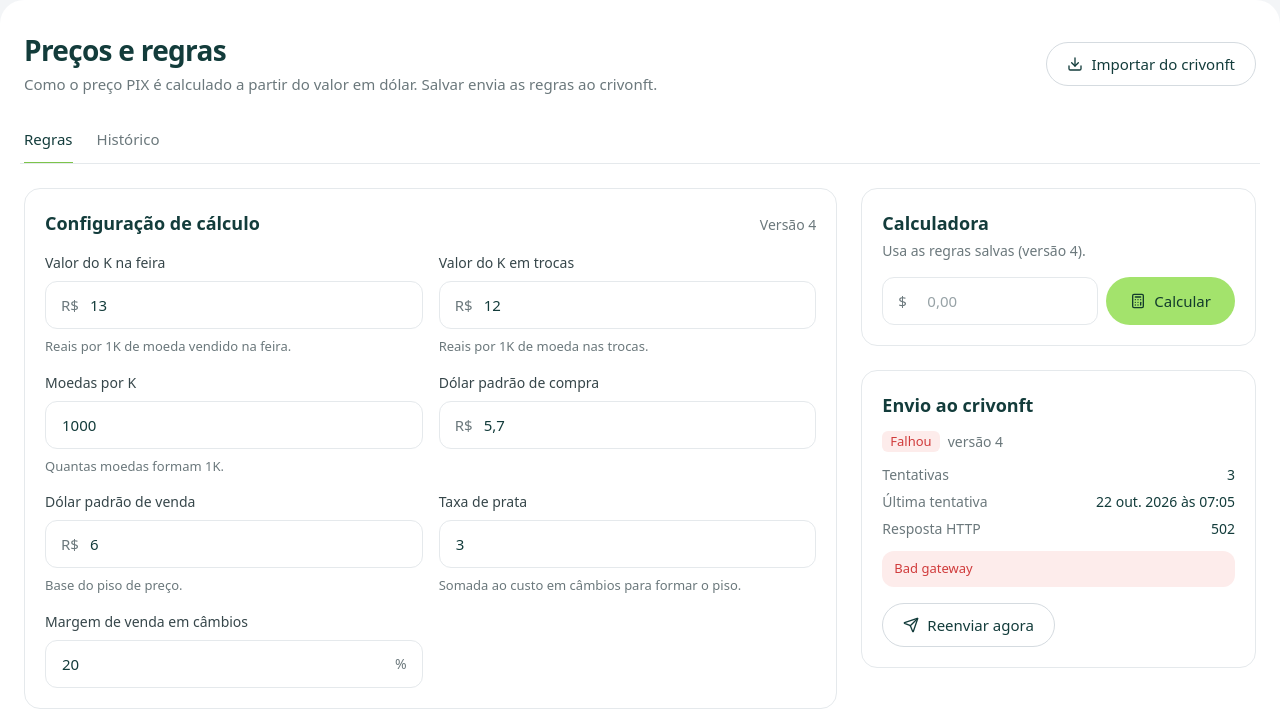
Test: PricingView › só mostra a barra de salvar depois de editar
Expected: the text "Salvar regras" is not shown
Replace the text in the field labelled "Valor do K na feira" with "14" at coordinates (234, 305), box [45, 281, 423, 329]
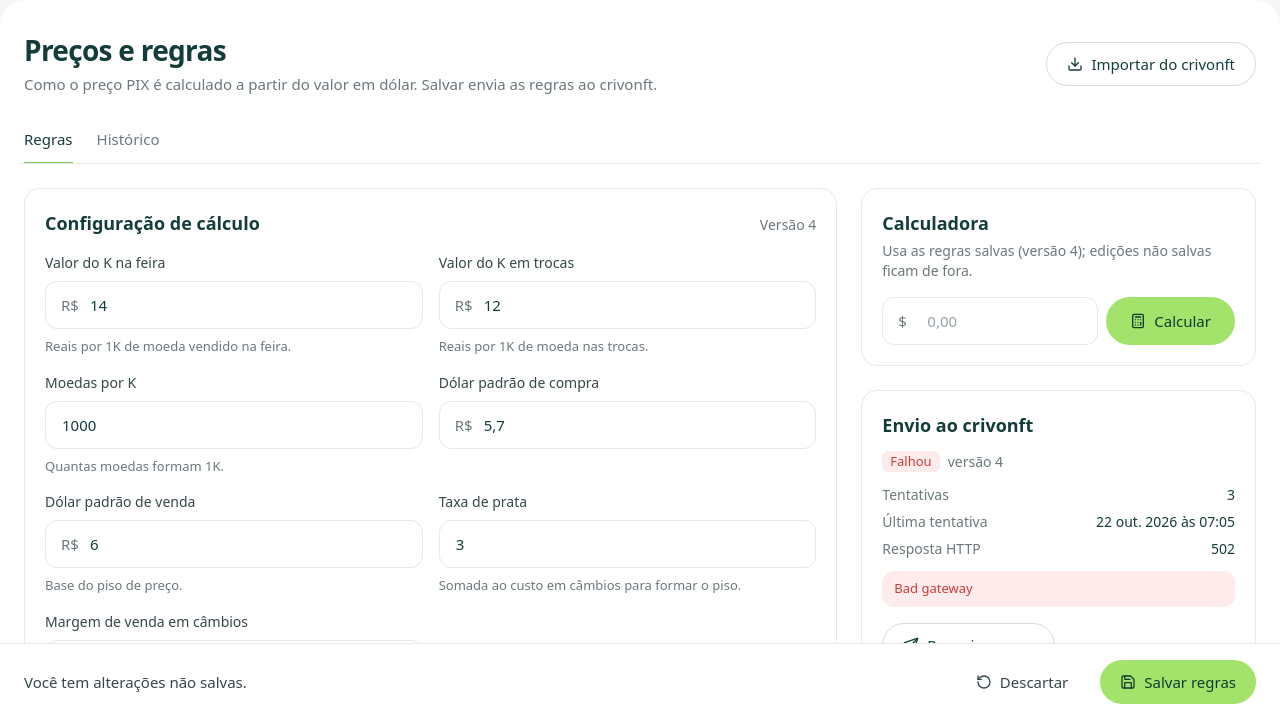
Now the text "Salvar regras" is shown, box [1100, 660, 1256, 704]
Click the button "Descartar" at coordinates (1022, 682), box [956, 660, 1088, 704]
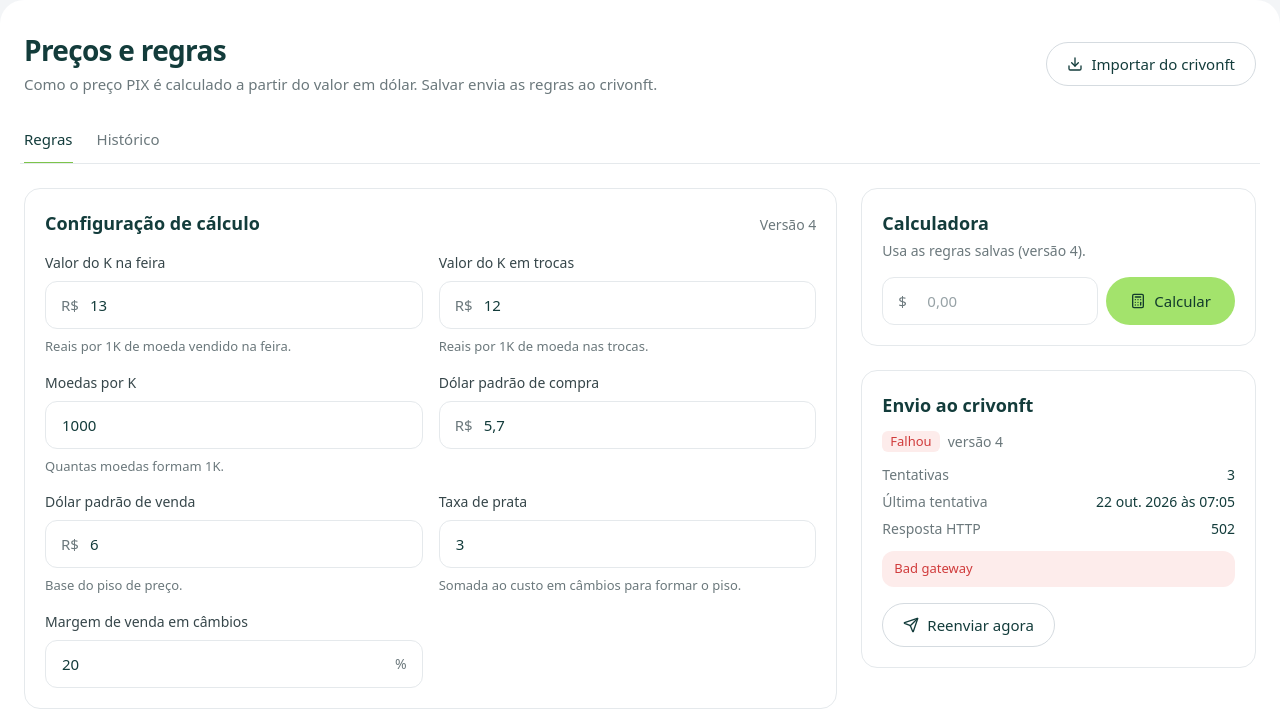
Now the text "Salvar regras" is gone
